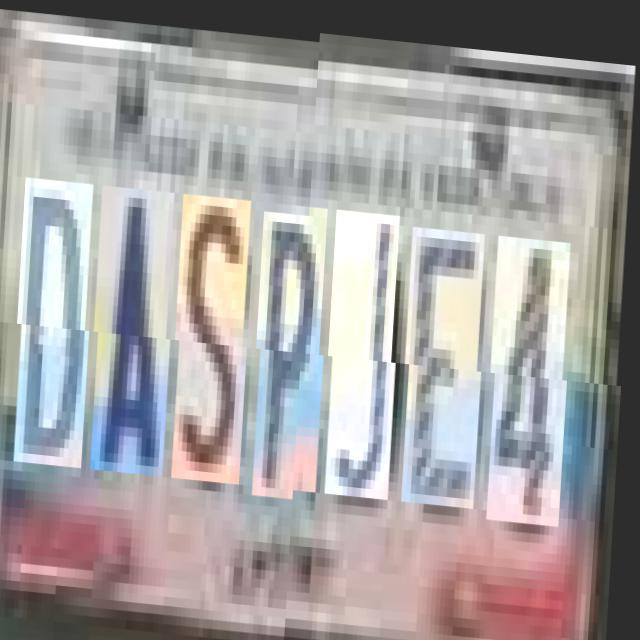4: (492, 234, 577, 523)
A: (96, 183, 181, 472)
D: (20, 177, 100, 466)
E: (406, 227, 491, 507)
J: (330, 212, 406, 500)
P: (258, 206, 334, 494)
S: (177, 190, 258, 479)
